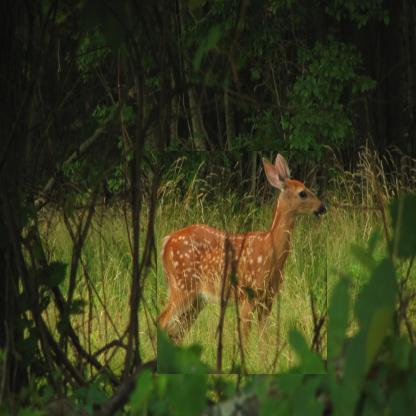Deer: (158, 151, 328, 374)
